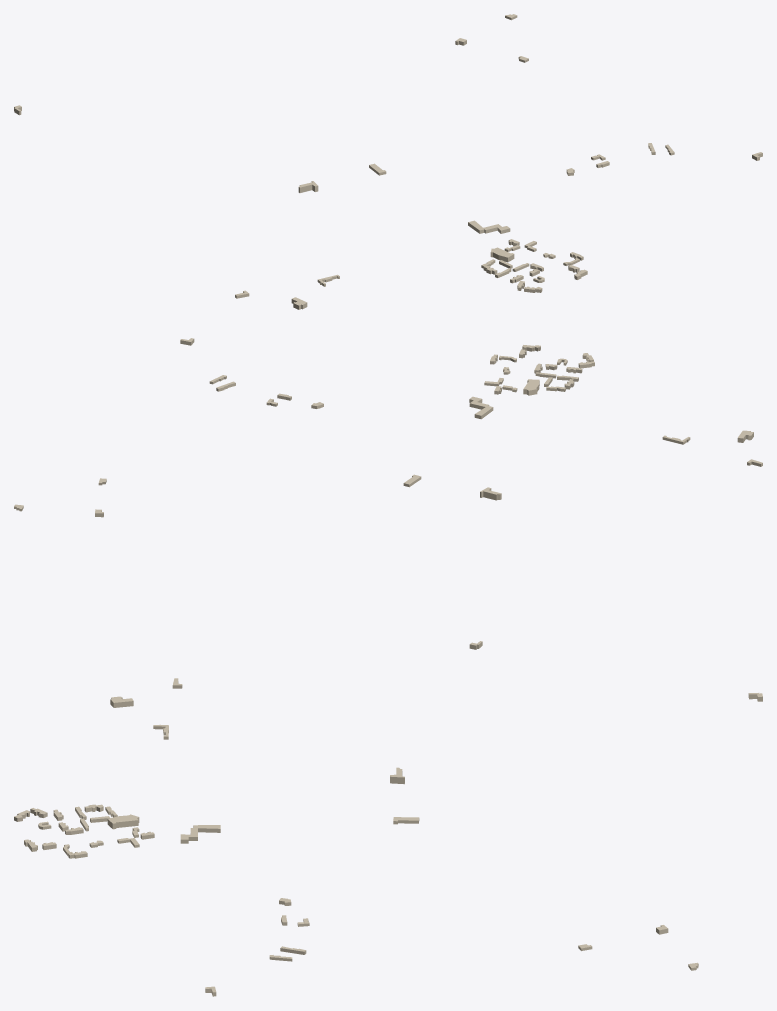
3 views of the same model, one above another, from view 1: azimuth 30°, elevation 25°; view 2: azimuth 150°, elevation 25°; view 3: azimuth 270°, elevation 25° (orthographic). The views are drawn at different scales.
Bounding box in the file's own units: 1536 × 17.38 × 1556.
